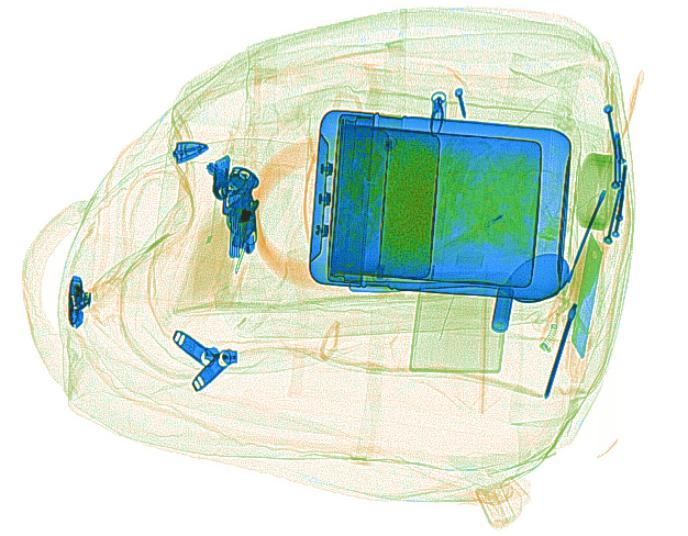battery: (489, 282, 516, 333)
knife: (571, 231, 603, 360)
